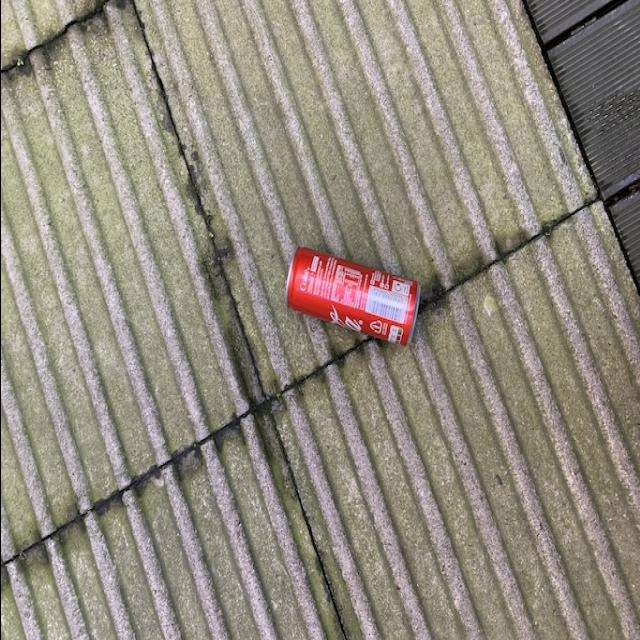Aluminum Can: (276, 242, 420, 350)
